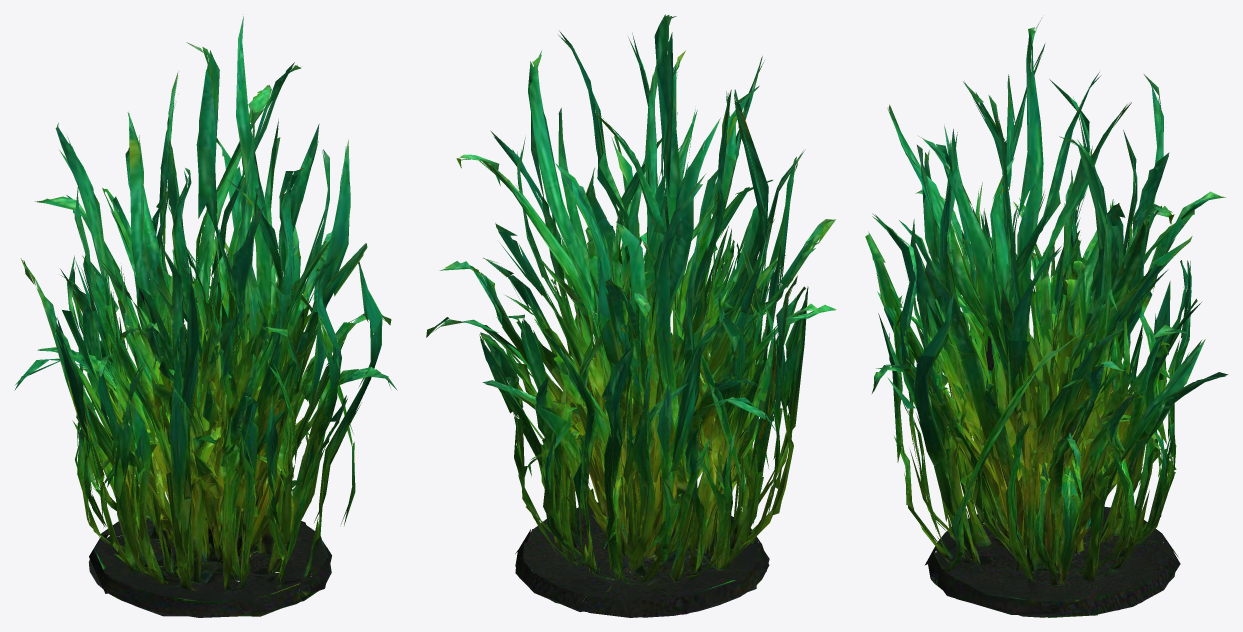
The model's file is bloom_sea_grass.glb.
The picture shows the model from 3 angles, left to right: view 1: azimuth 30°, elevation 25°; view 2: azimuth 150°, elevation 25°; view 3: azimuth 270°, elevation 25°; orthographic projection. The views are drawn at different scales.
Parts seen in each view (by area): view 1: Mesh_0; view 2: Mesh_0; view 3: Mesh_0.
Boxes of the visible parts, x1,y1,x2,y2 form: Mesh_0: [14, 14, 397, 617]; Mesh_0: [426, 14, 836, 617]; Mesh_0: [865, 17, 1228, 617].
Size of the model in its own units: 1.36 by 1.9 by 1.16.
Materials: 1 (1 with a texture image).
